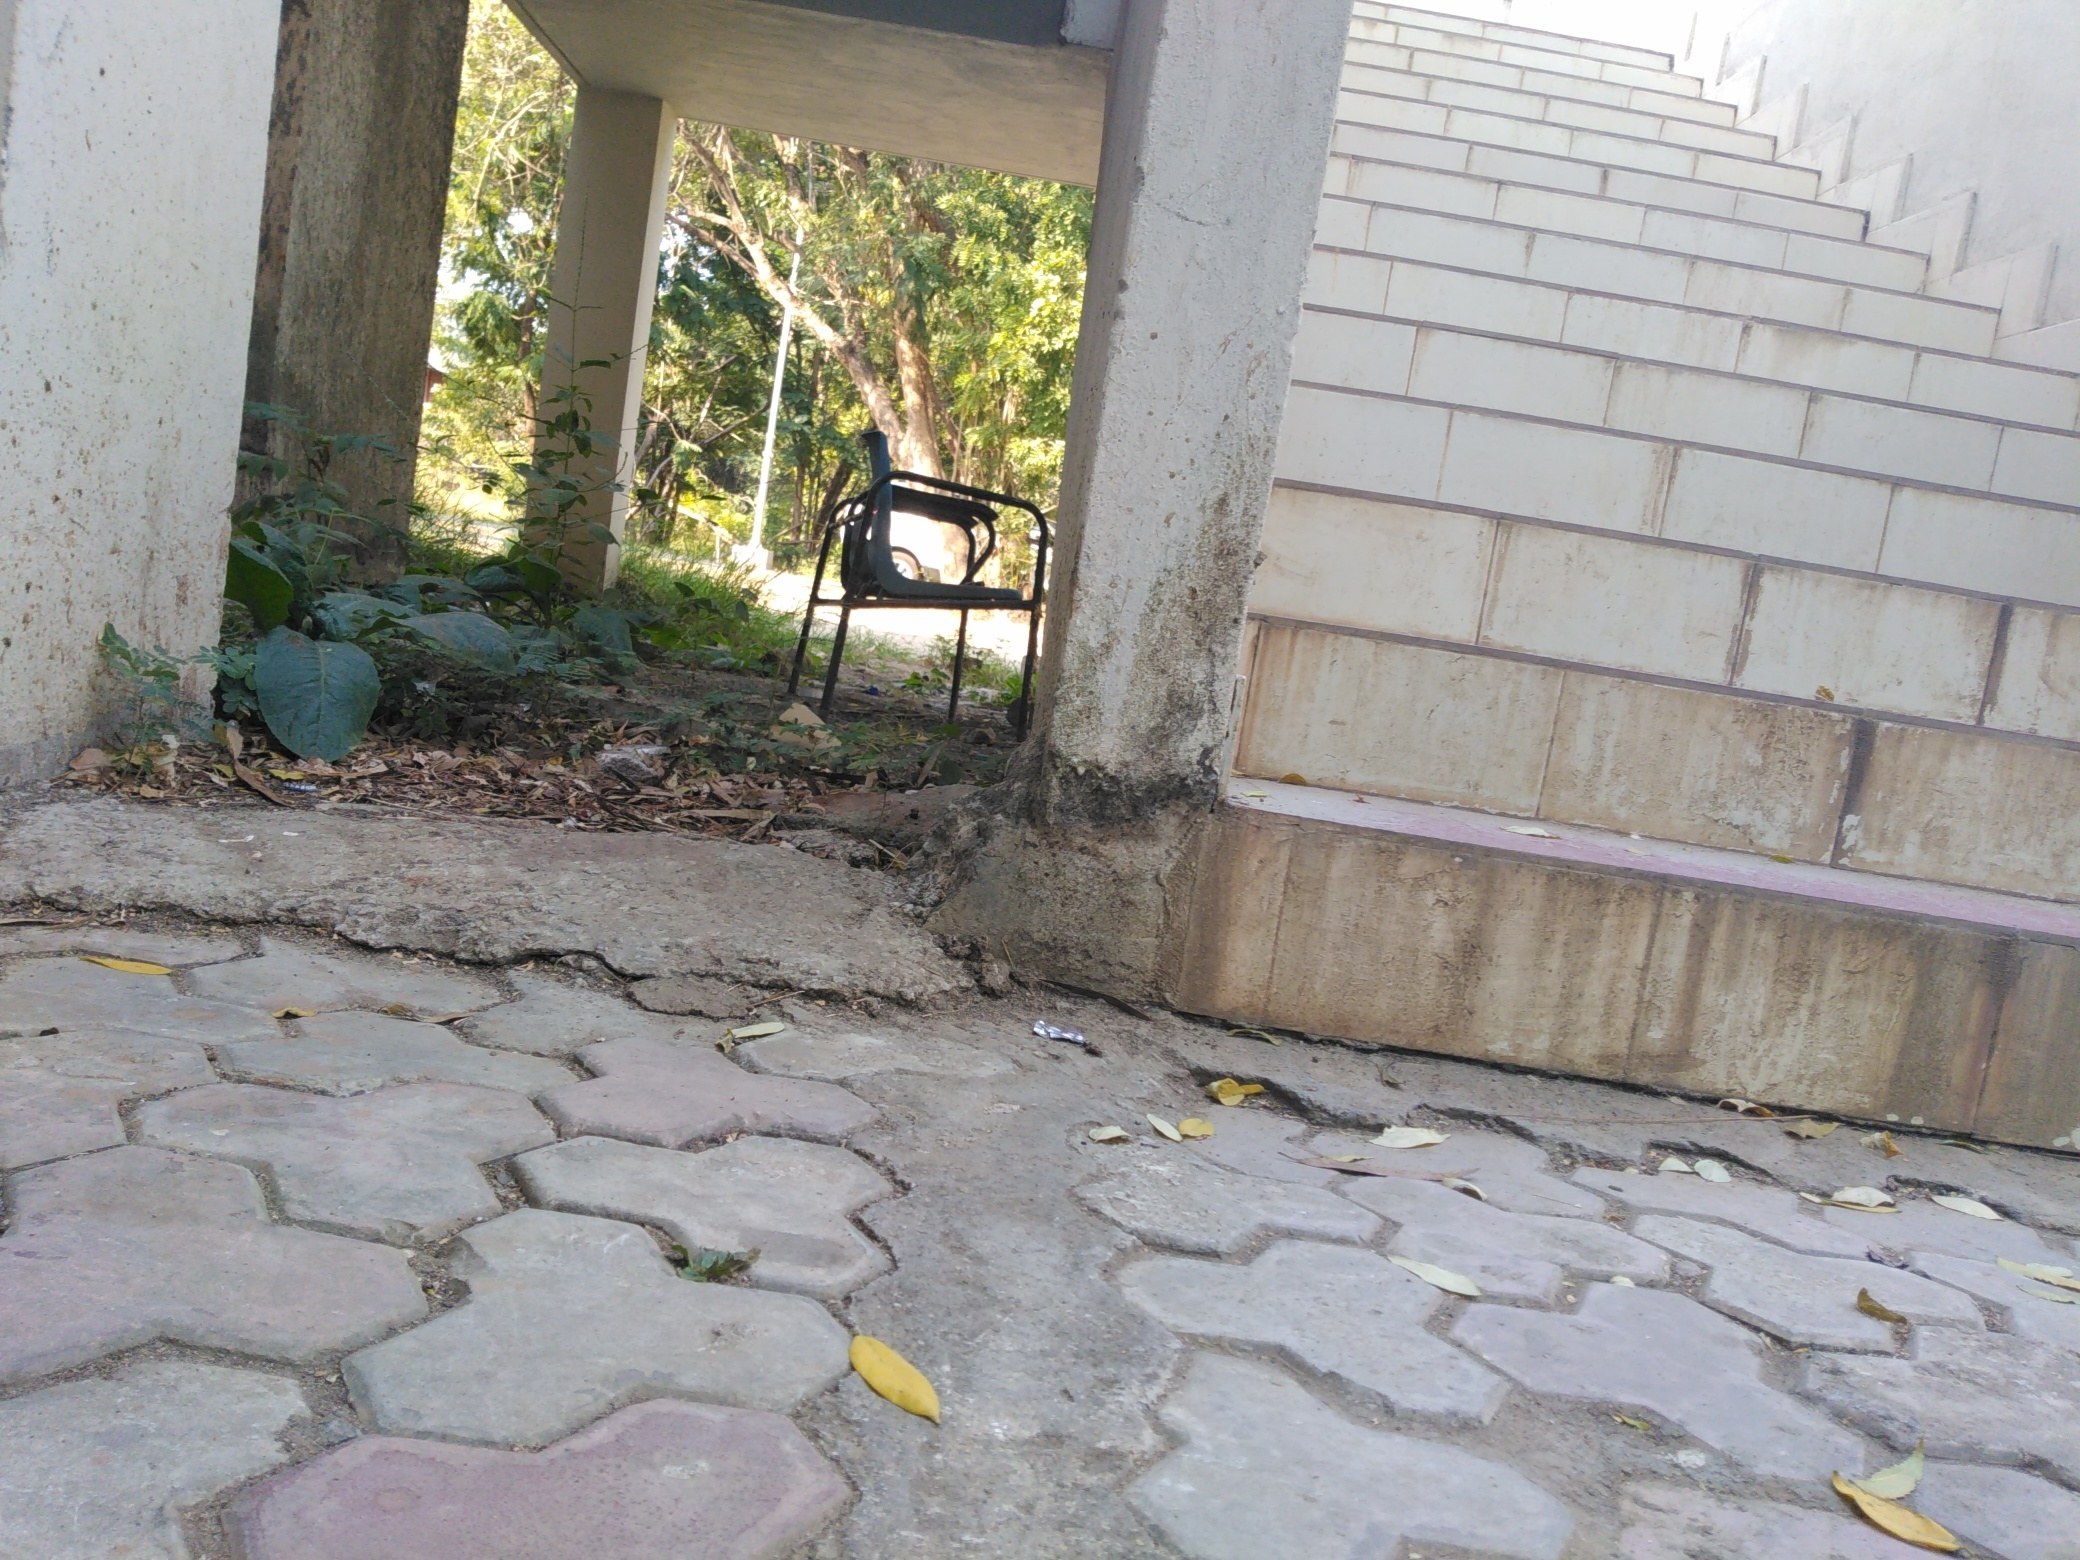stairs_up: (1228, 11, 2080, 1145)
